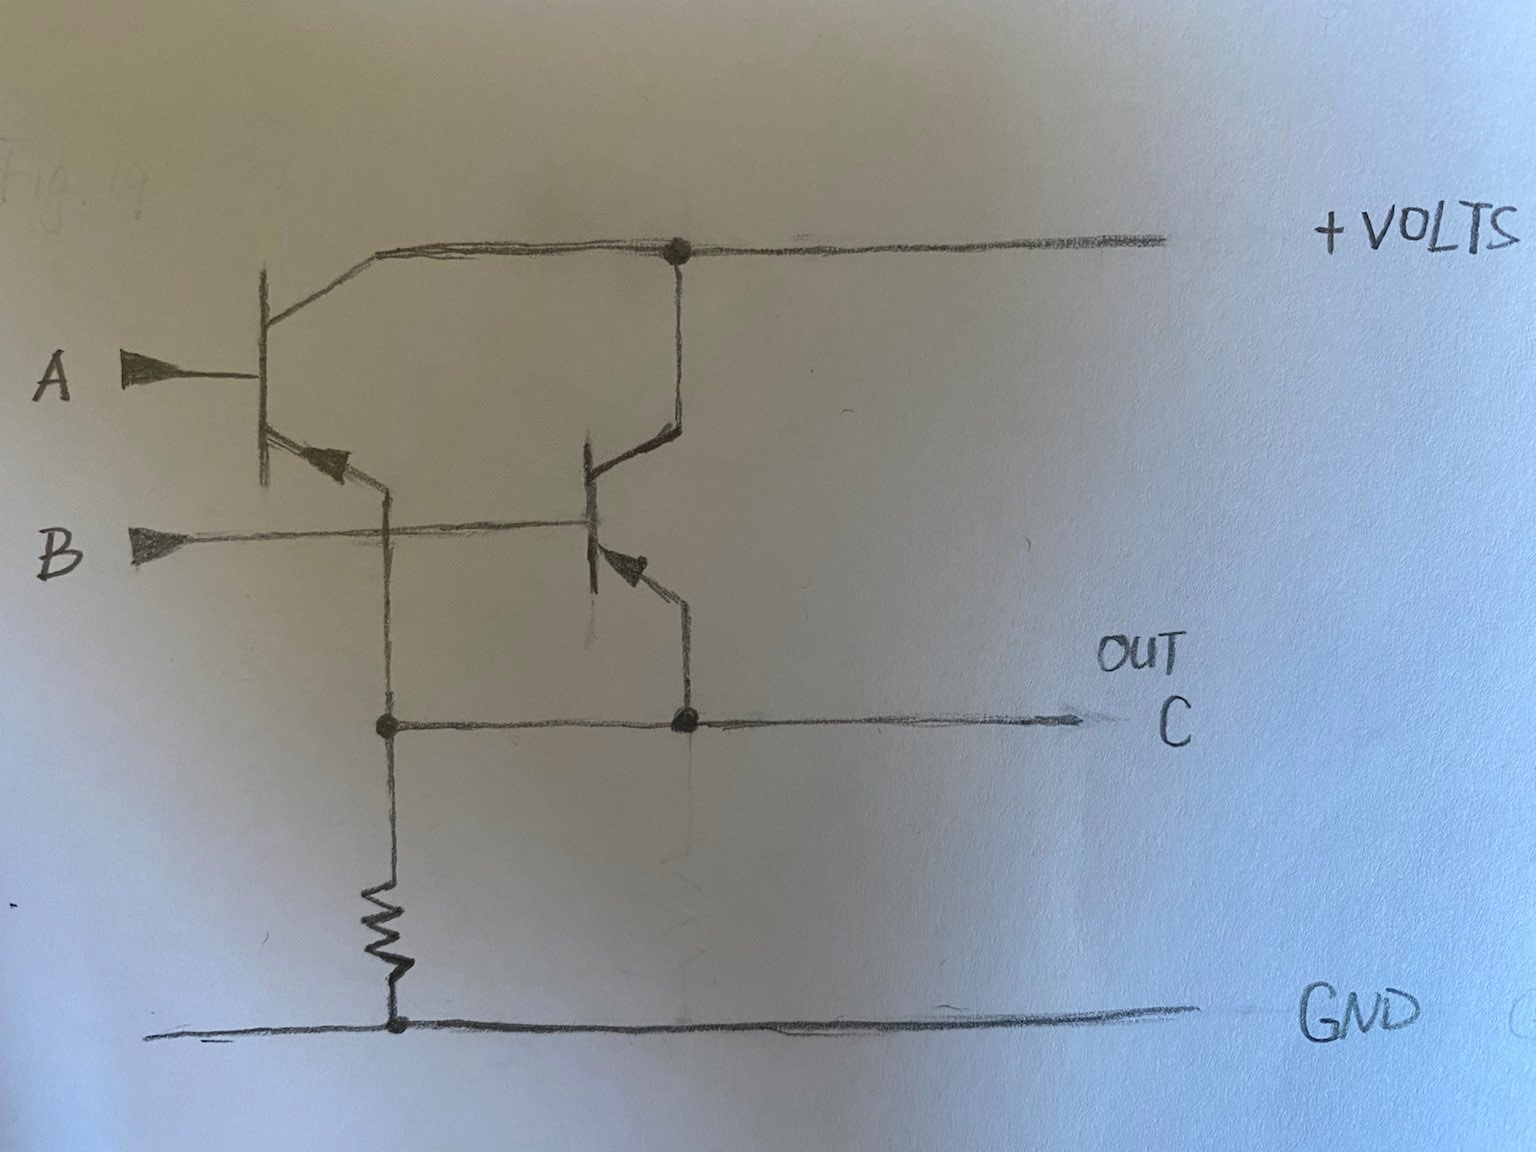crossover: (365, 514, 412, 555)
junction: (656, 690, 726, 764), (645, 219, 708, 284), (366, 695, 417, 747), (382, 1010, 414, 1039)
resistor: (351, 866, 428, 990)
terminal: (121, 517, 207, 570), (112, 345, 204, 392), (1121, 215, 1194, 263), (1147, 991, 1222, 1029), (133, 1016, 197, 1055), (1036, 699, 1095, 736)
text: (1288, 967, 1422, 1046), (1361, 197, 1524, 260), (1092, 628, 1190, 676), (1151, 690, 1206, 756), (35, 522, 87, 587), (31, 342, 74, 409), (1311, 207, 1345, 255)
transistor: (238, 232, 417, 503), (568, 411, 710, 621)
